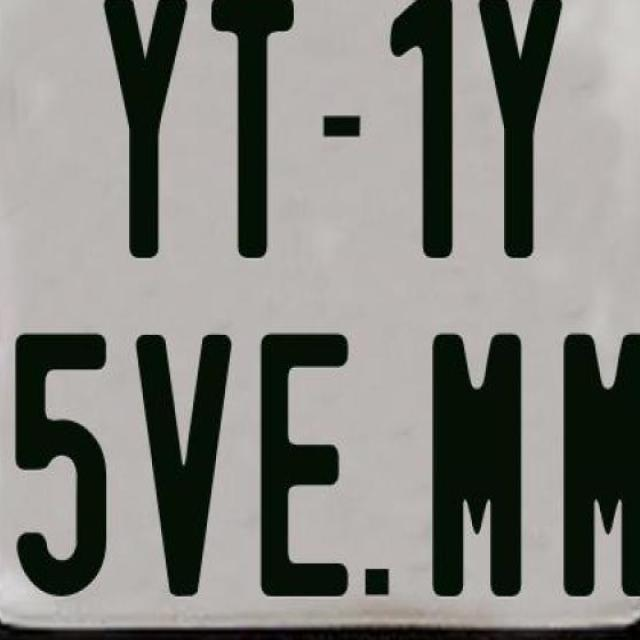license-plate: (4, 6, 640, 640), (0, 0, 29, 20)
